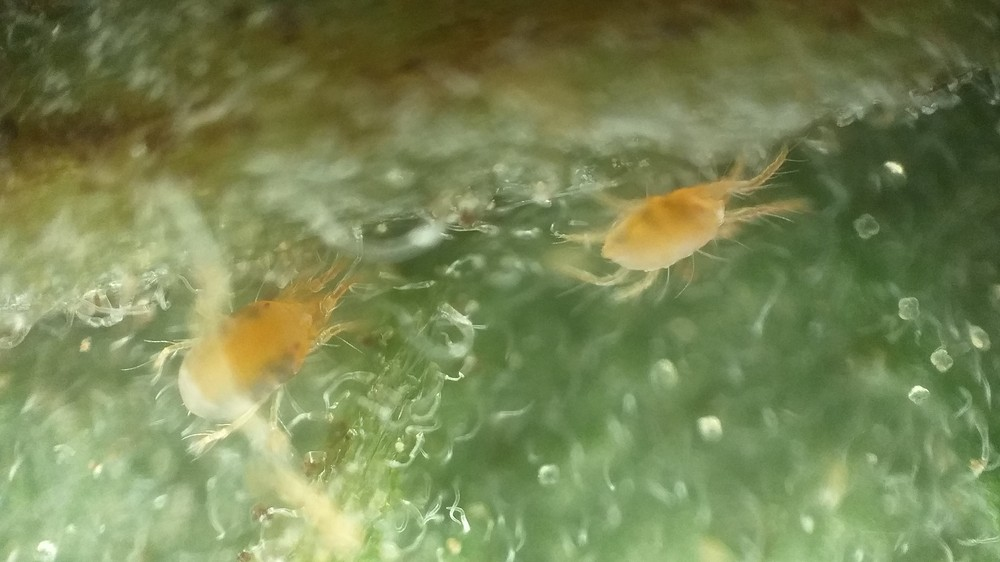Aracnido Rojo: (127, 241, 383, 453), (534, 136, 819, 307)
